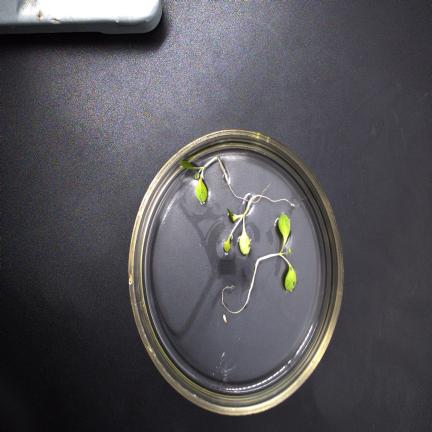leaf1: (180, 161, 194, 169), (227, 209, 234, 221)
leaf2: (196, 177, 207, 202)
leaf3: (195, 172, 199, 179)
leaf4: (227, 209, 241, 221)
leaf5: (224, 237, 230, 251)
leaf6: (239, 227, 250, 255)
leaf7: (278, 214, 290, 248)
leaf8: (285, 265, 296, 291)
leaf9: (288, 248, 291, 253)
root1: (218, 156, 270, 203)
root2: (221, 259, 259, 314)
root3: (249, 194, 308, 207)
stem1: (196, 157, 218, 177)
stem2: (258, 249, 290, 264)
stem3: (229, 201, 251, 236)
